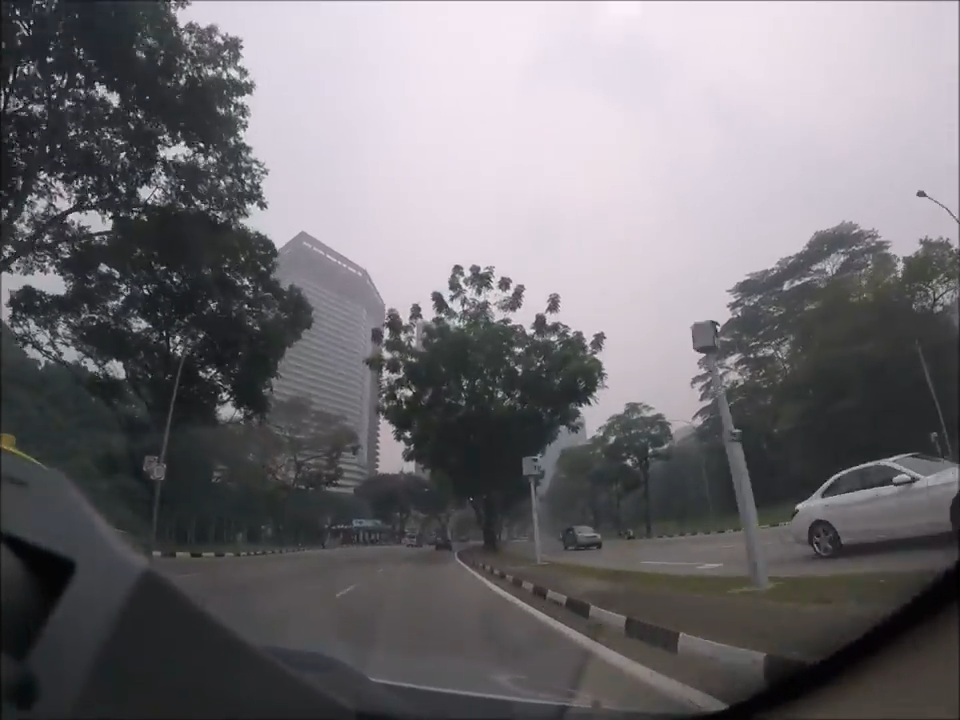car: (786, 449, 960, 555), (561, 524, 602, 551), (433, 534, 452, 550)
